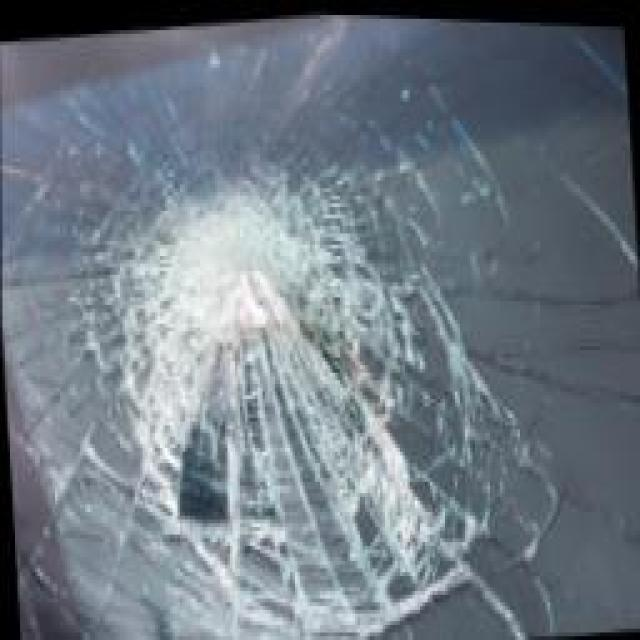Windshield: (0, 11, 640, 640)
